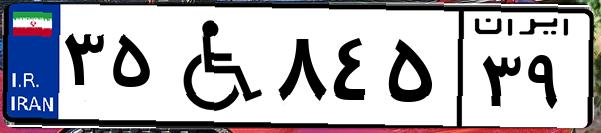3: (57, 26, 110, 100), (475, 38, 525, 113)
4: (330, 28, 385, 110)
5: (385, 28, 445, 110), (110, 28, 158, 98)
8: (270, 28, 330, 110)
9: (525, 38, 570, 115)
ژ (معلولین و جانبازان): (158, 12, 270, 120)
